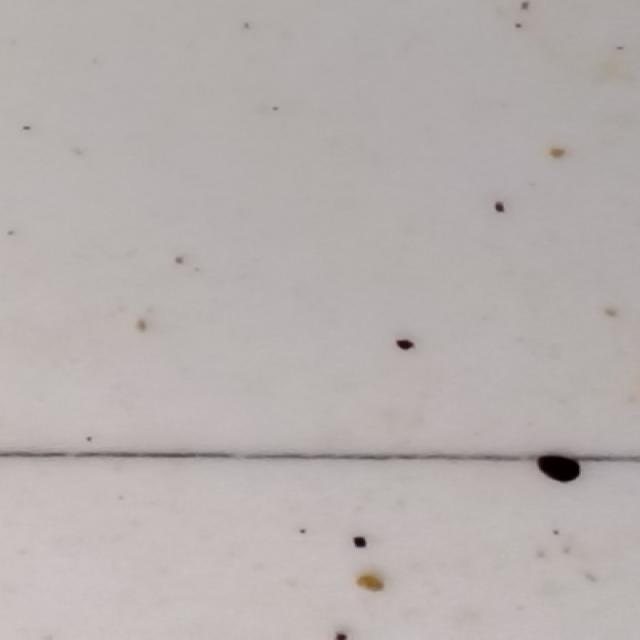varroa: (534, 450, 584, 483)
